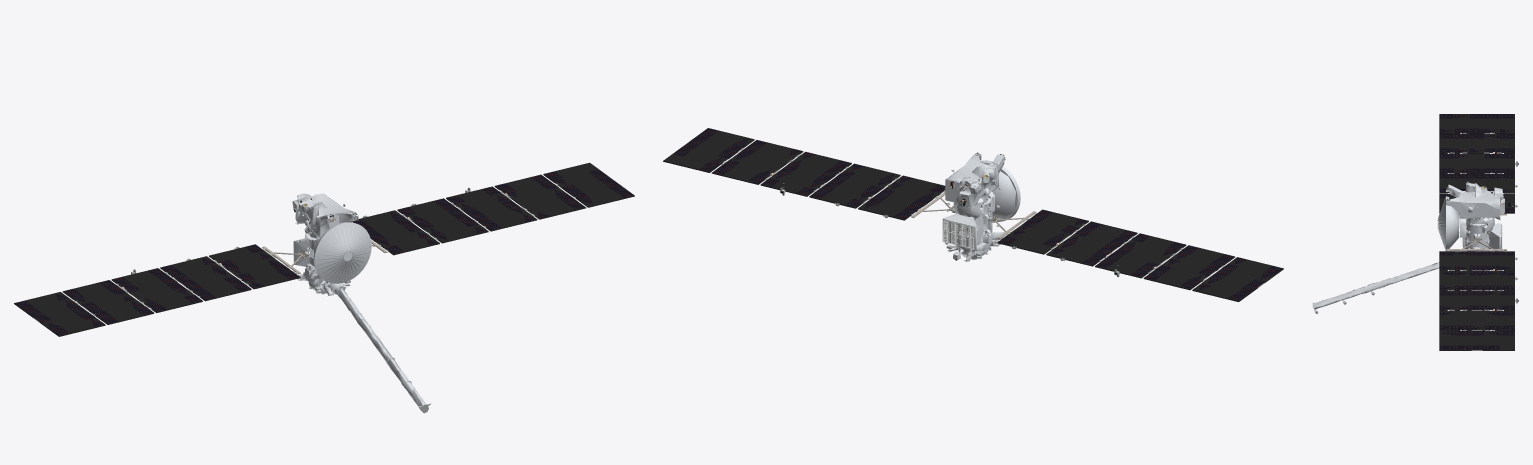
The model's file is europa_clipper-low.glb.
The picture shows the model from 3 angles, left to right: view 1: azimuth 30°, elevation 25°; view 2: azimuth 150°, elevation 25°; view 3: azimuth 270°, elevation 25°; orthographic projection. The views are drawn at different scales.
Visible parts, largest first — view 1: solar_cells_chassis, solar_cells, blanket_hideable, blanket_hard, blanket_soft; view 2: solar_cells_chassis, solar_cells, blanket_hideable, blanket_soft, bus_exposed; view 3: solar_cells_chassis, solar_cells, blanket_hideable, blanket_soft, blanket_hard.
Boxes of the visible parts, bbox=[...] form: solar_cells_chassis: bbox=[14, 162, 634, 336]; solar_cells: bbox=[15, 169, 633, 335]; blanket_hideable: bbox=[292, 193, 425, 408]; blanket_hard: bbox=[297, 204, 371, 289]; blanket_soft: bbox=[293, 226, 368, 294]; solar_cells_chassis: bbox=[663, 128, 1283, 301]; solar_cells: bbox=[673, 128, 1282, 300]; blanket_hideable: bbox=[945, 153, 1007, 261]; blanket_soft: bbox=[942, 164, 1015, 259]; bus_exposed: bbox=[942, 159, 1005, 261]; solar_cells_chassis: bbox=[1439, 114, 1514, 350]; solar_cells: bbox=[1440, 114, 1514, 349]; blanket_hideable: bbox=[1313, 182, 1504, 309]; blanket_soft: bbox=[1449, 206, 1500, 251]; blanket_hard: bbox=[1437, 196, 1489, 251].
Size of the model in its own units: 30.5 by 18 by 11.25.
16 materials, 13 textured.
